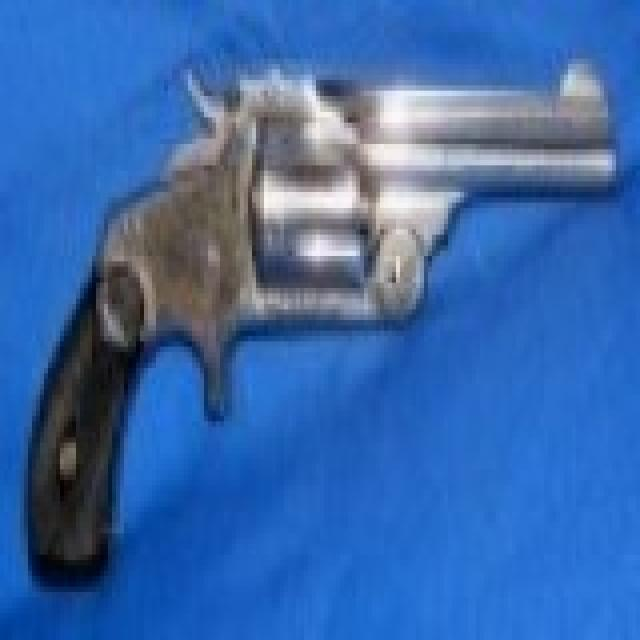pistol: (36, 43, 624, 592)
